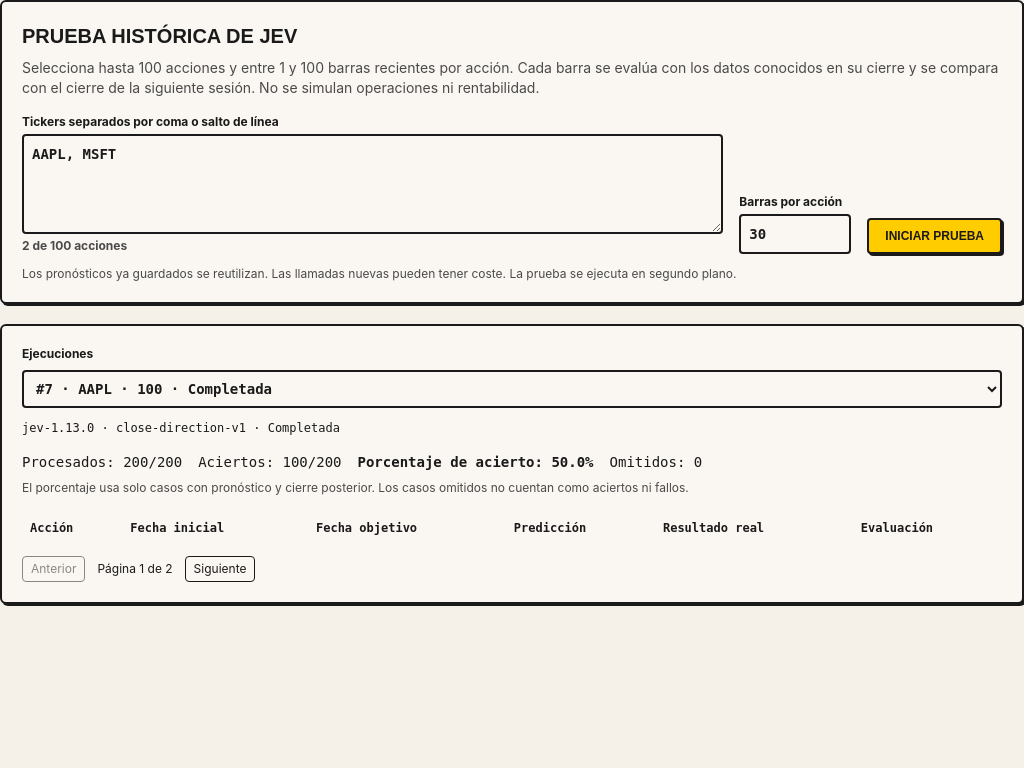
loads large run details one page at a time
Expected: the text "Página 1 de 2" is shown, [97, 561, 173, 577]
Click the button "Siguiente".
click(220, 569)  # box [185, 556, 256, 582]
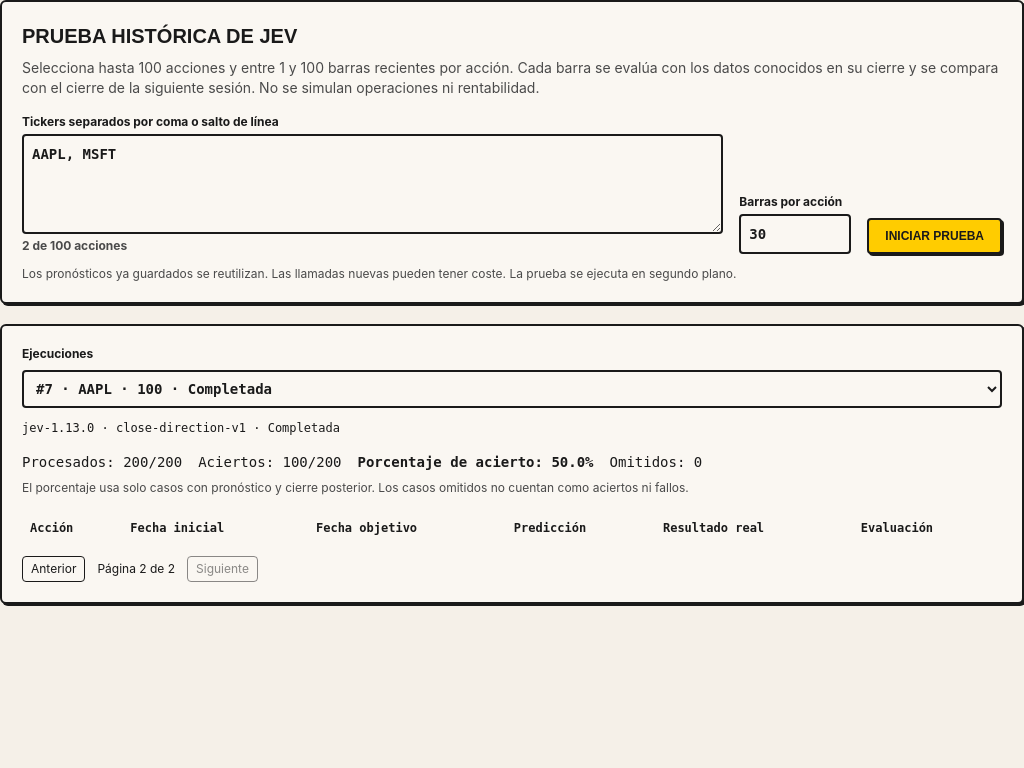
Expected: the text "Página 2 de 2" is shown, [97, 561, 175, 577]
